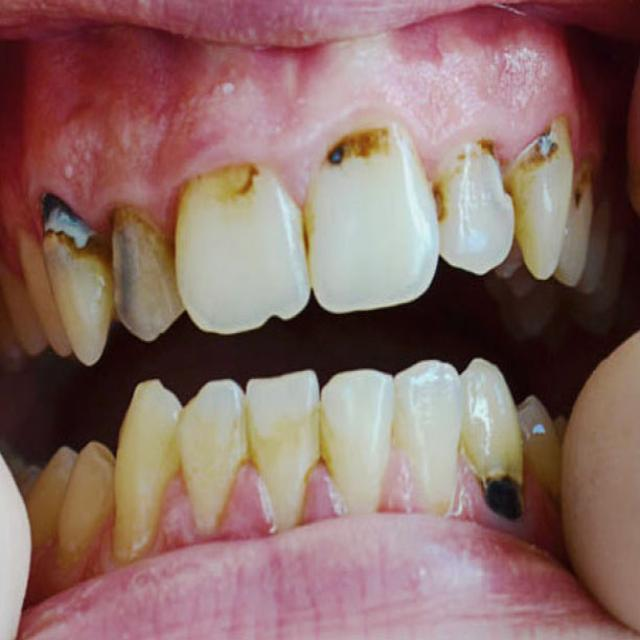caries: (471, 454, 538, 532), (33, 184, 95, 262), (314, 120, 383, 178), (510, 116, 566, 179), (225, 152, 273, 211), (478, 139, 515, 206), (418, 170, 454, 232), (568, 179, 590, 218)
